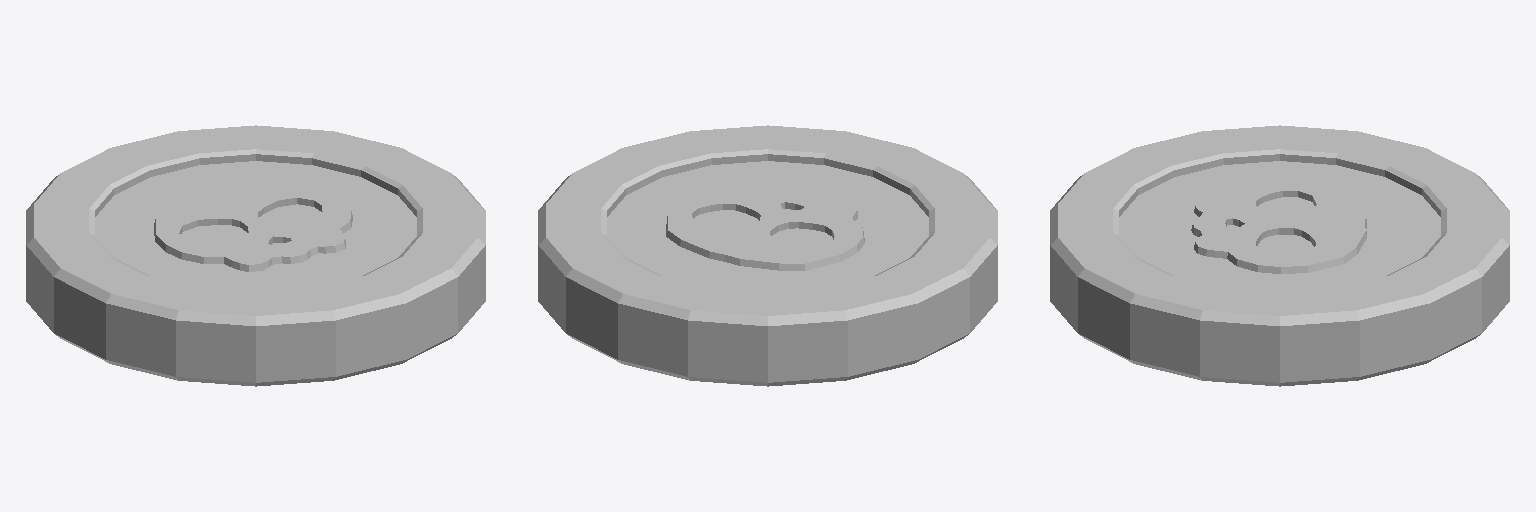
3 views of the same model, side by side, from view 1: azimuth 30°, elevation 25°; view 2: azimuth 150°, elevation 25°; view 3: azimuth 270°, elevation 25° (orthographic).
Visible parts, largest first — view 1: Low_Coin; view 2: Low_Coin; view 3: Low_Coin.
Boxes of the visible parts, x1,y1,x2,y2 form: Low_Coin: [26, 125, 485, 386]; Low_Coin: [538, 125, 997, 386]; Low_Coin: [1050, 125, 1509, 386].
Bounding box in the file's own units: 12 × 2 × 11.82.